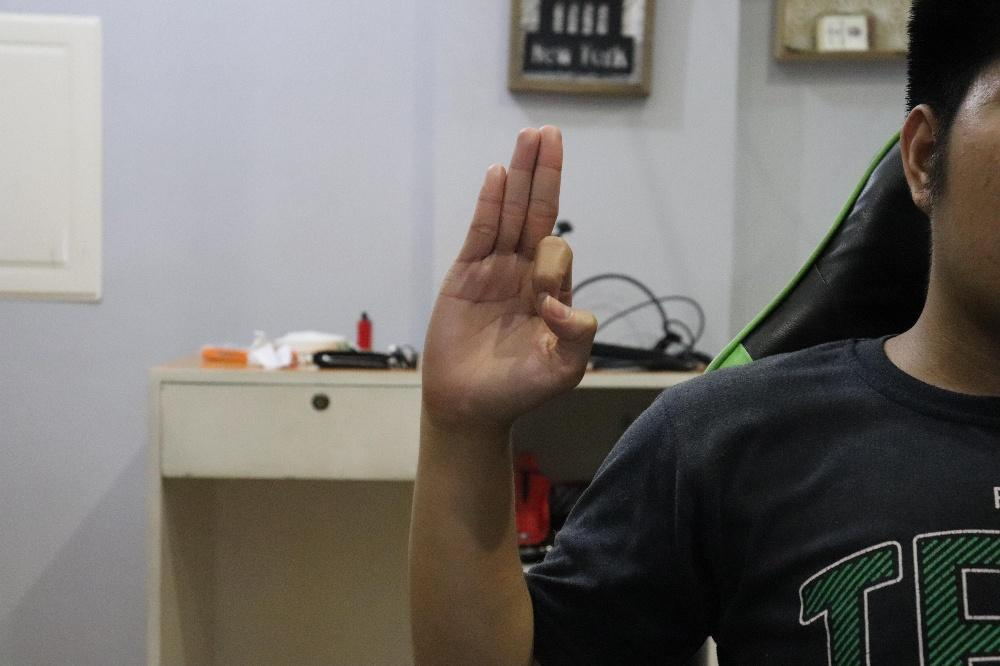f: (420, 125, 595, 430)
